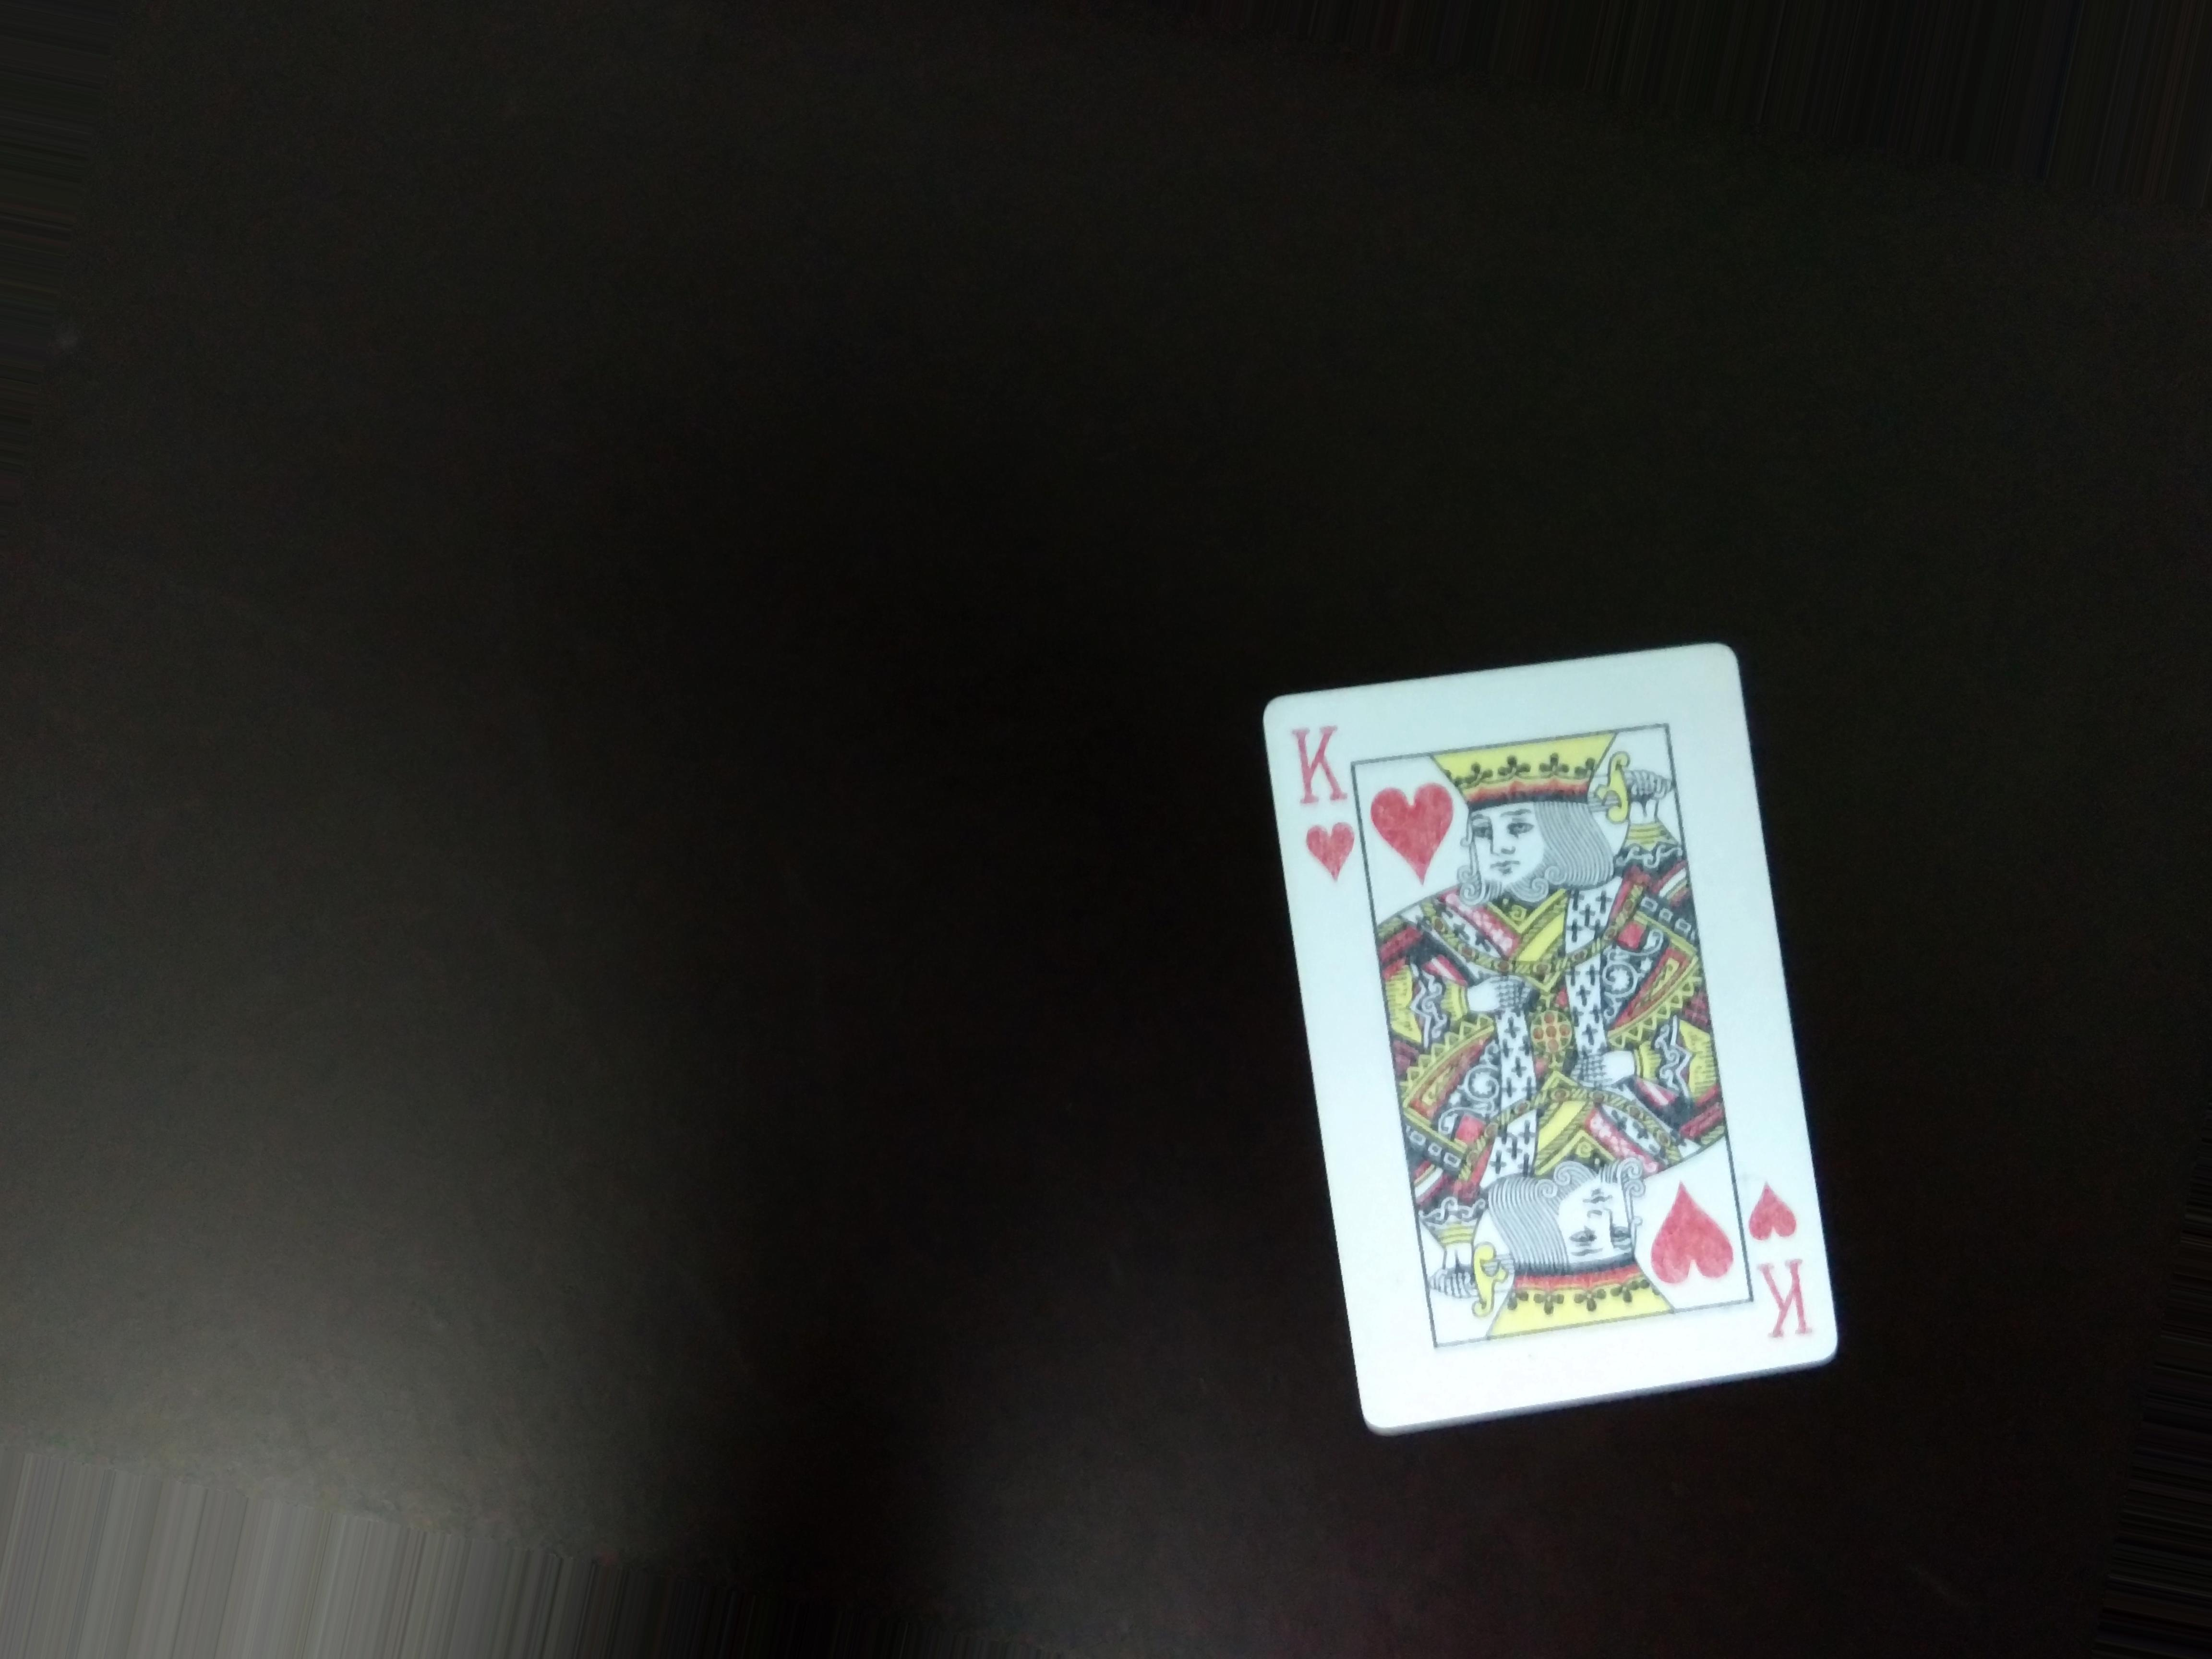KH: (1285, 718, 1359, 873)
